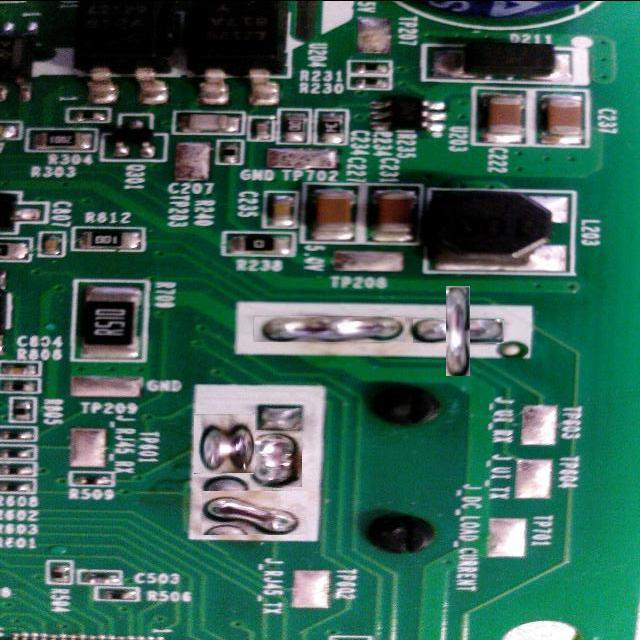Short_circuit: (202, 491, 308, 535), (253, 316, 405, 342), (194, 413, 255, 474), (430, 302, 487, 360), (250, 434, 302, 487)
